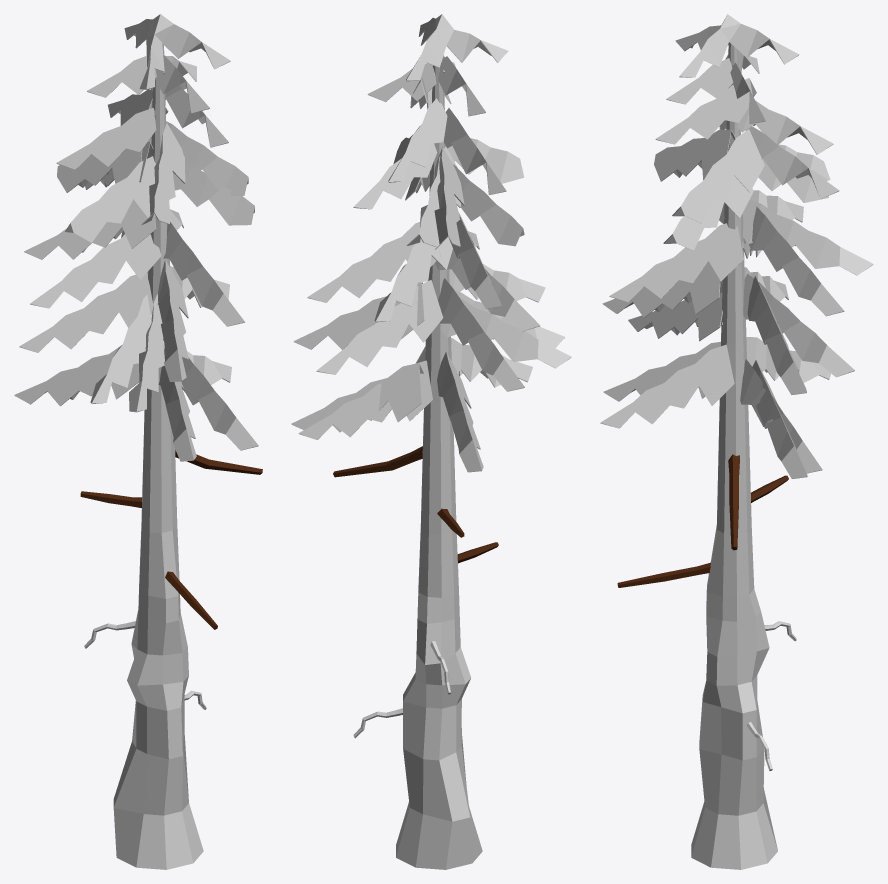
The model's file is 2_pines.fbx.
3 renders of one model, left to right at view 1: azimuth 30°, elevation 25°; view 2: azimuth 150°, elevation 25°; view 3: azimuth 270°, elevation 25°, orthographic.
Parts seen in each view (by area): view 1: Tree Type0 03 Model.004, Tree Type0 03 Model.005; view 2: Tree Type0 03 Model.004, Tree Type0 03 Model.005; view 3: Tree Type0 03 Model.004, Tree Type0 03 Model.005.
Boxes of the visible parts, x1,y1,x2,y2 form: Tree Type0 03 Model.004: (14, 14, 258, 461); Tree Type0 03 Model.005: (80, 44, 262, 869); Tree Type0 03 Model.004: (291, 14, 571, 472); Tree Type0 03 Model.005: (333, 57, 498, 869); Tree Type0 03 Model.004: (600, 14, 873, 478); Tree Type0 03 Model.005: (617, 42, 796, 869).
Size of the model in its own units: 239 by 847 by 251.
